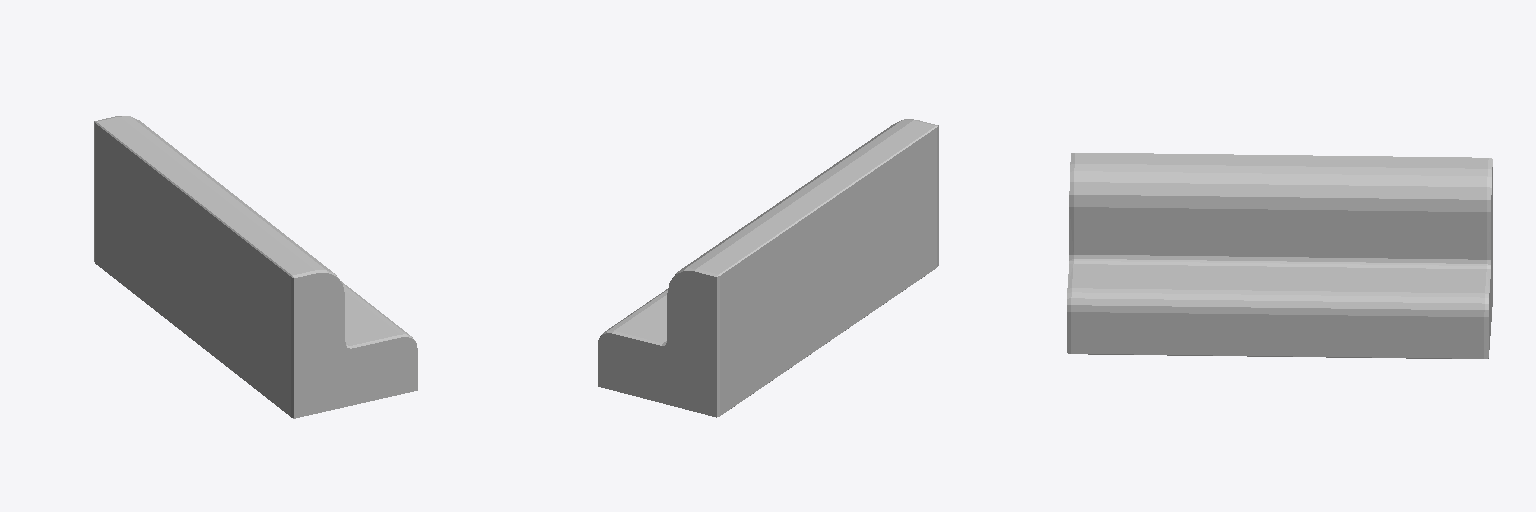
The model's file is seat_11.obj.
3 views of the same model, side by side, from view 1: azimuth 30°, elevation 25°; view 2: azimuth 150°, elevation 25°; view 3: azimuth 270°, elevation 25° (orthographic).
Visible parts, largest first — view 1: Cadeira1.010_Cube.010; view 2: Cadeira1.010_Cube.010; view 3: Cadeira1.010_Cube.010.
Boxes of the visible parts, x1,y1,x2,y2 form: Cadeira1.010_Cube.010: [94, 116, 417, 418]; Cadeira1.010_Cube.010: [598, 119, 938, 417]; Cadeira1.010_Cube.010: [1067, 153, 1492, 358].
Bounding box in the file's own units: 1.18 × 1.2 × 3.26.